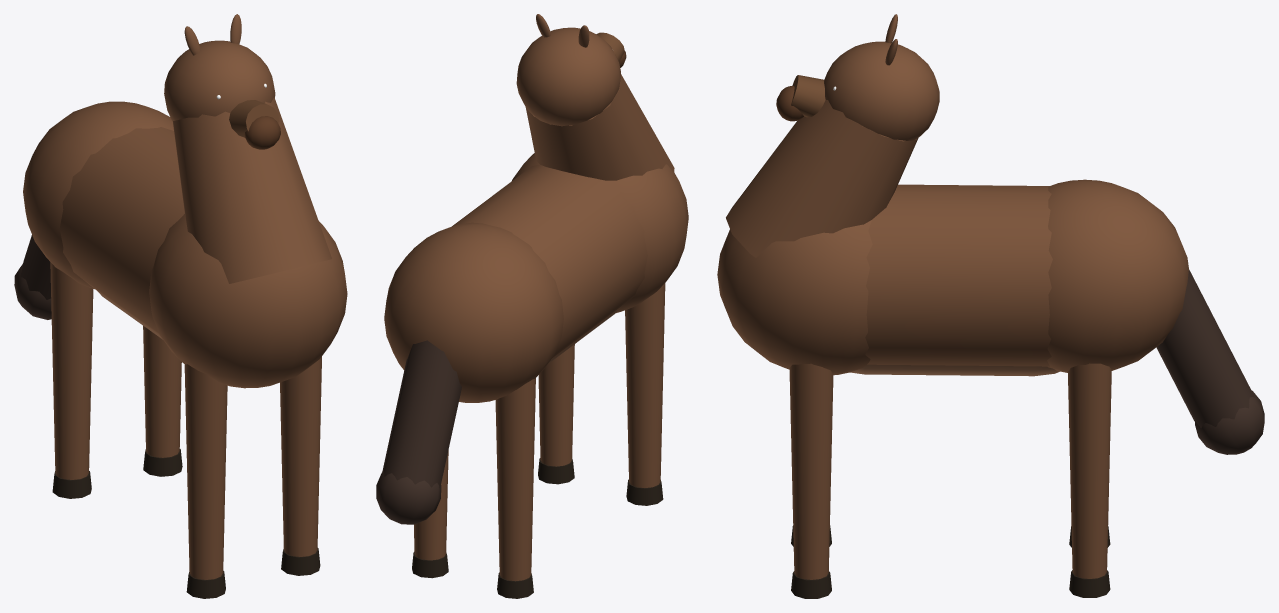
Rendered from h16-kuda.glb.
The picture shows the model from 3 angles, left to right: view 1: azimuth 30°, elevation 25°; view 2: azimuth 150°, elevation 25°; view 3: azimuth 270°, elevation 25°; orthographic projection. The views are drawn at different scales.
Parts seen in each view (by area): view 1: Kuda, neck, head; view 2: Kuda, head, neck; view 3: Kuda, neck, head.
Boxes of the visible parts, x1,y1,x2,y2 form: Kuda: (14, 101, 347, 598); neck: (173, 97, 331, 283); head: (164, 14, 280, 149); Kuda: (376, 153, 688, 598); head: (516, 14, 626, 126); neck: (525, 74, 674, 180); Kuda: (717, 179, 1264, 598); neck: (726, 100, 918, 257); head: (776, 14, 939, 140).
Size of the model in its own units: 0.52 by 1.53 by 1.4.
